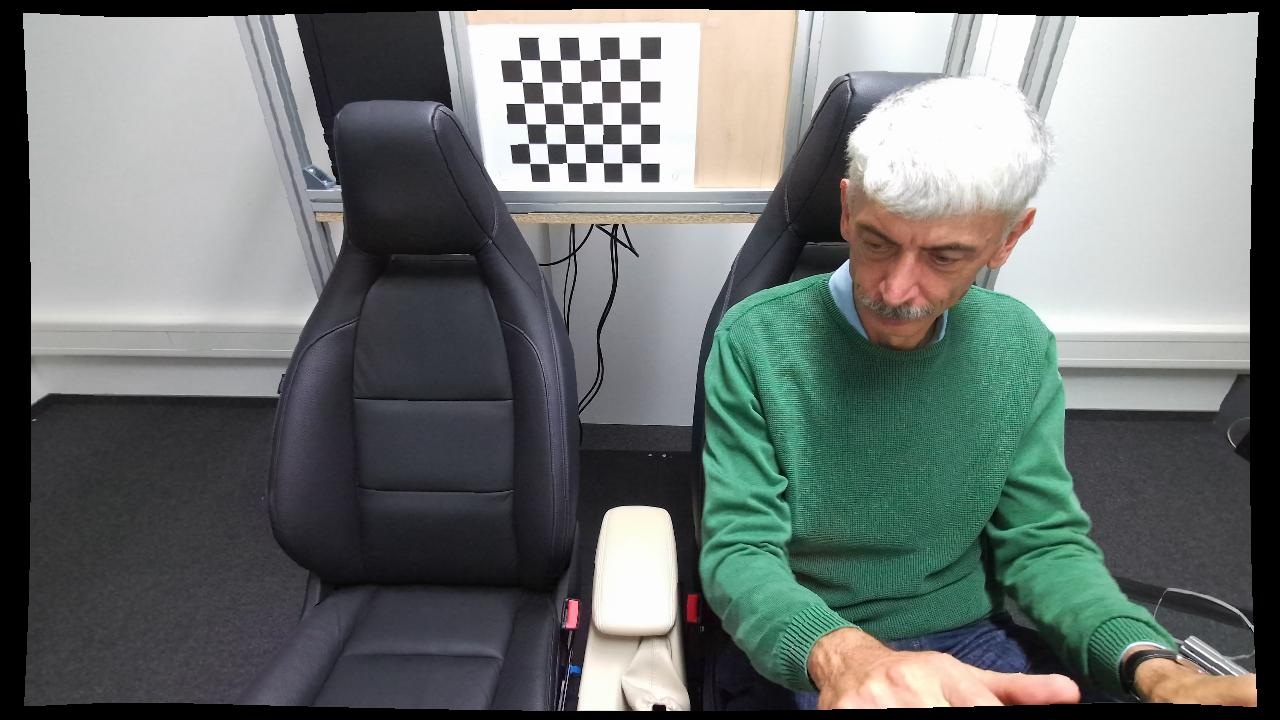Distracted: (682, 75, 1185, 709)
